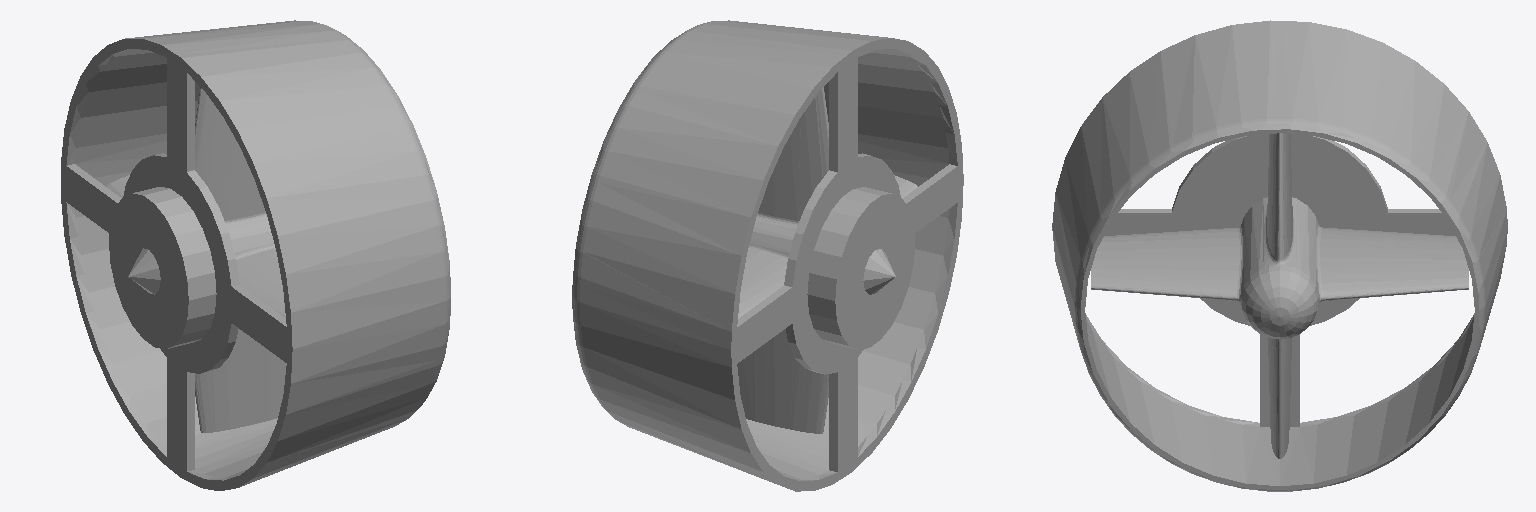
robot.urdf — bluefin propelor (Inaccurate measurements) .SLDPRT:
<robot
  name="bluefin propelor (Inaccurate measurements) .SLDPRT">
  <link
    name="bluefin_propelor">
    <inertial>
      <origin
        xyz="0.048119 -4.7017E-06 -1.6562E-07"
        rpy="0 0 0" />
      <mass
        value="1.3001" />
      <inertia
        ixx="0.0121036631410029"
        ixy="-4.77313063700589E-09"
        ixz="1.88752847595144E-08"
        iyy="2.06194330802076E-08"
        iyz="-0.00801077839668997"
        izz="-2.06194330792265E-08" />
    </inertial>
    <visual>
      <origin
        xyz="1.5707963267949 0 0"
        rpy="0 0 0" />
      <geometry>
        <mesh
          filename="package://bluefin_propelor/meshes/bluefin_propelor.STL" />
      </geometry>
      <material
        name="">
        <color
          rgba="0.69804 0.69804 0.69804 1" />
      </material>
    </visual>
    <collision>
      <origin
        xyz="0 0 0"
        rpy="1.5707963267949 0 0" />
      <geometry>
        <mesh
          filename="package://bluefin_propelor/meshes/bluefin_propelor.STL" />
      </geometry>
    </collision>
  </link>
</robot>

--- Facts derived from the render (not from the file) ---
Views: 3 orthographic renders of the robot side by side, from view 1: azimuth 30°, elevation 25°; view 2: azimuth 150°, elevation 25°; view 3: azimuth 270°, elevation 25°.
Robot: bluefin propelor (Inaccurate measurements) .SLDPRT — 1 links, 0 joints (none); root link bluefin_propelor; default pose: every joint at zero.
Links seen in each view (by area): view 1: bluefin_propelor; view 2: bluefin_propelor; view 3: bluefin_propelor.
Link boxes in pixels (x1=…): bluefin_propelor: x1=61, y1=20, x2=450, y2=490; bluefin_propelor: x1=572, y1=20, x2=963, y2=491; bluefin_propelor: x1=1052, y1=20, x2=1507, y2=491.
Bounding box of the posed robot: 0.171 × 0.29 × 0.2897 m (x, y, z).
1 mesh visuals loaded from 1 distinct referenced files (1 binary STL).